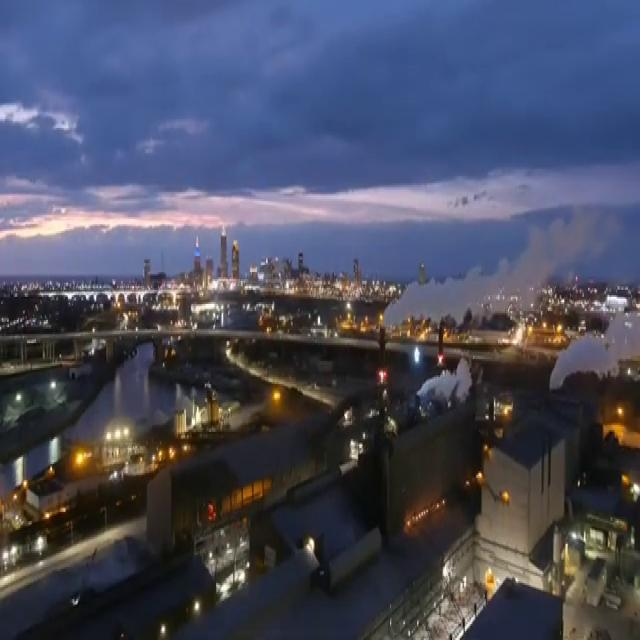smoke: (385, 245, 552, 327), (549, 316, 640, 398), (415, 357, 485, 418)
